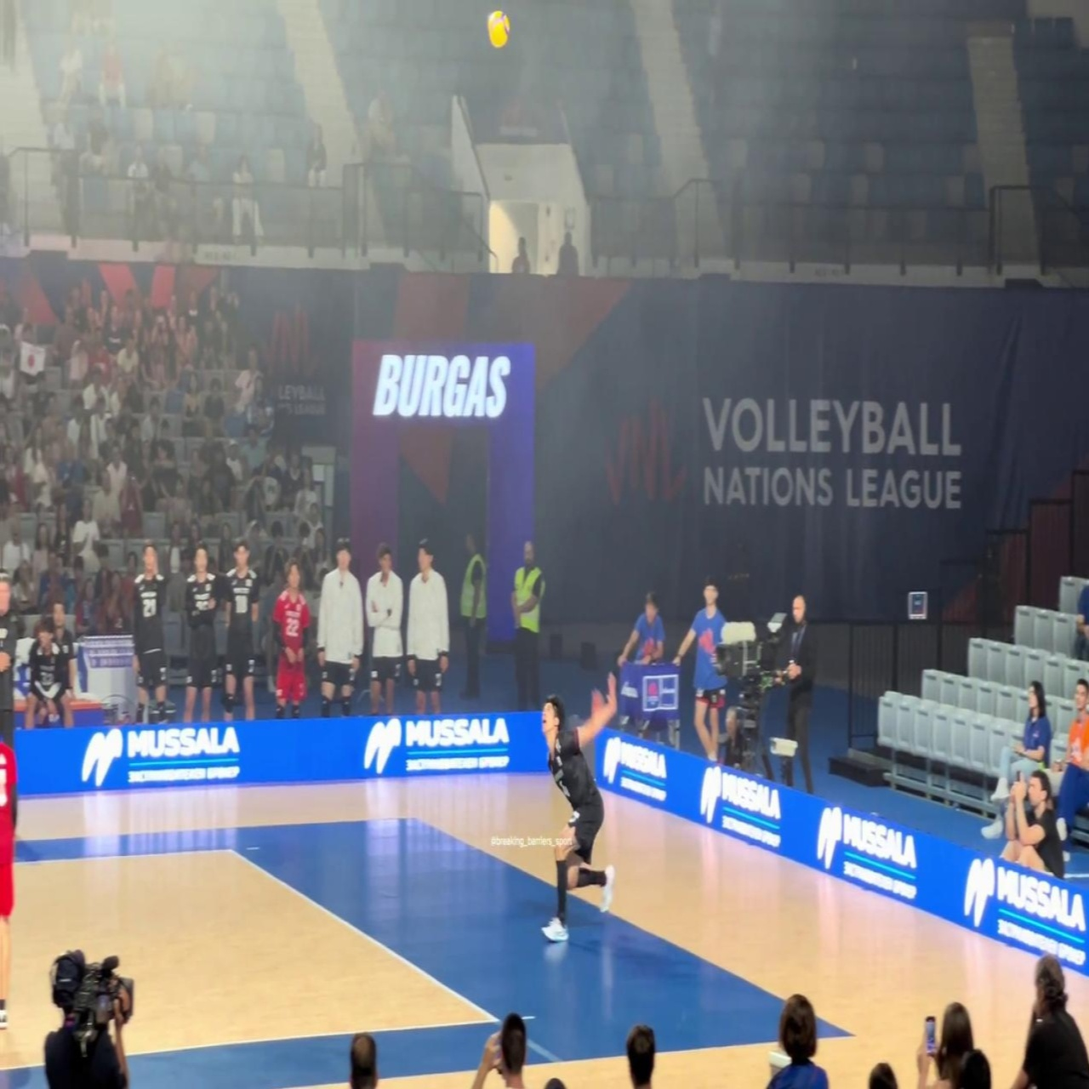ball: (487, 8, 509, 47)
